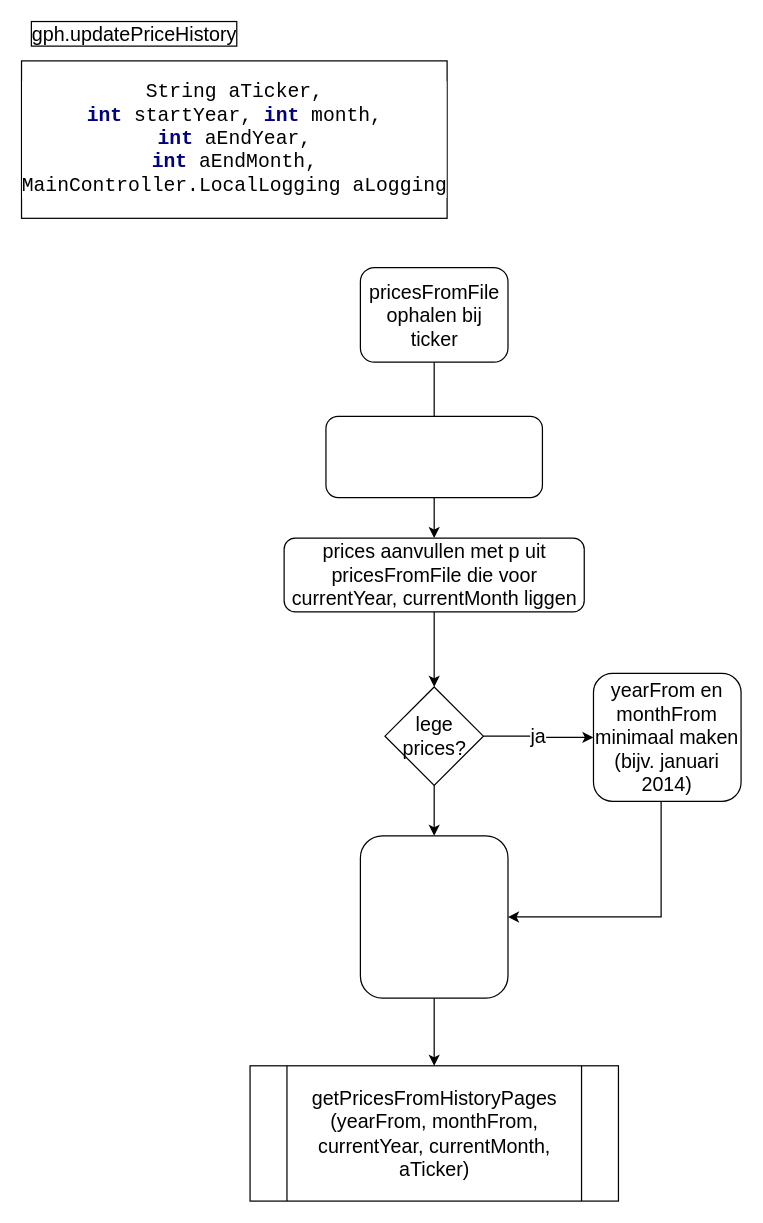
The diagram is 763 pixels wide and 1223 high, and some of its shapes have lost their labels. Here are the shapes that lost their labels. From the top down, the box of each, then its label:
(325, 415, 542, 498): currentYear en currentMonth bepalen uit parameters
(359, 835, 508, 998): yearFrom en monthFrom gelijk maken aan laatste maand + 1 en jaar uit prices
